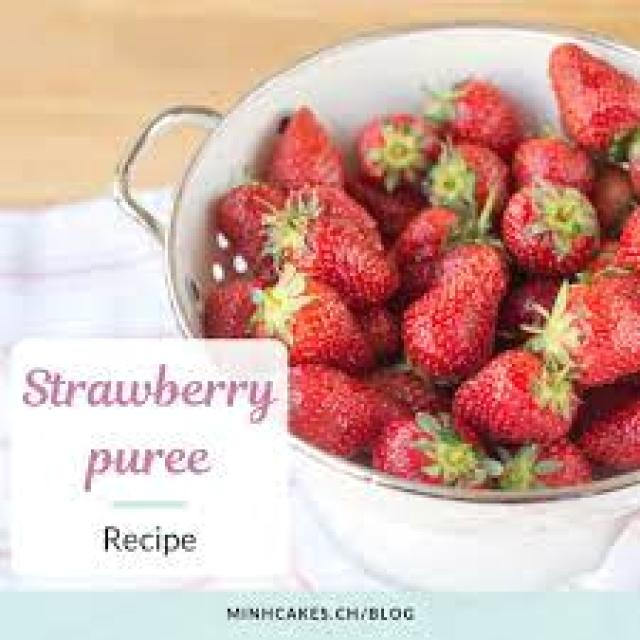tofu: (438, 336, 578, 450), (261, 182, 401, 288), (401, 239, 500, 378), (534, 39, 640, 151), (493, 178, 611, 270)
